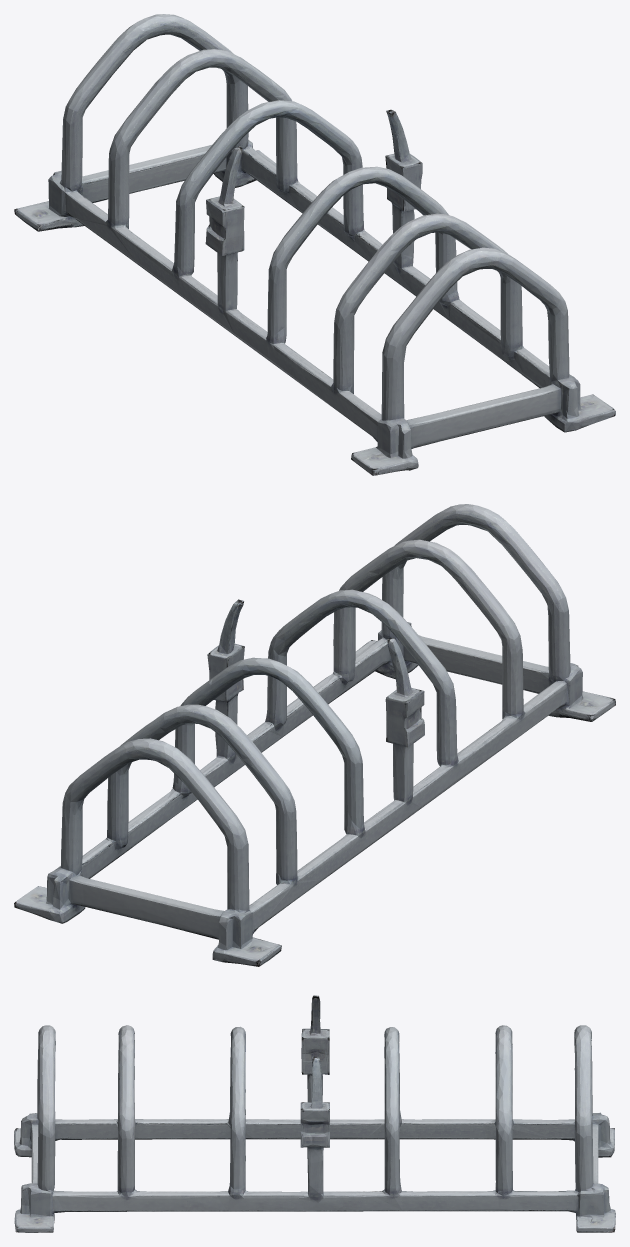
Rendered from prop.bike_rack.glb.
3 renders of one model, top to bottom at view 1: azimuth 30°, elevation 25°; view 2: azimuth 150°, elevation 25°; view 3: azimuth 270°, elevation 25°, orthographic. The views are drawn at different scales.
Visible parts, largest first — view 1: geometry_0; view 2: geometry_0; view 3: geometry_0.
Boxes of the visible parts, x1,y1,x2,y2 form: geometry_0: [14, 14, 615, 475]; geometry_0: [14, 504, 615, 966]; geometry_0: [14, 995, 615, 1232].
Size of the model in its own units: 0.3951 by 0.2963 by 0.9981.
Materials: 1 (1 with a texture image).
